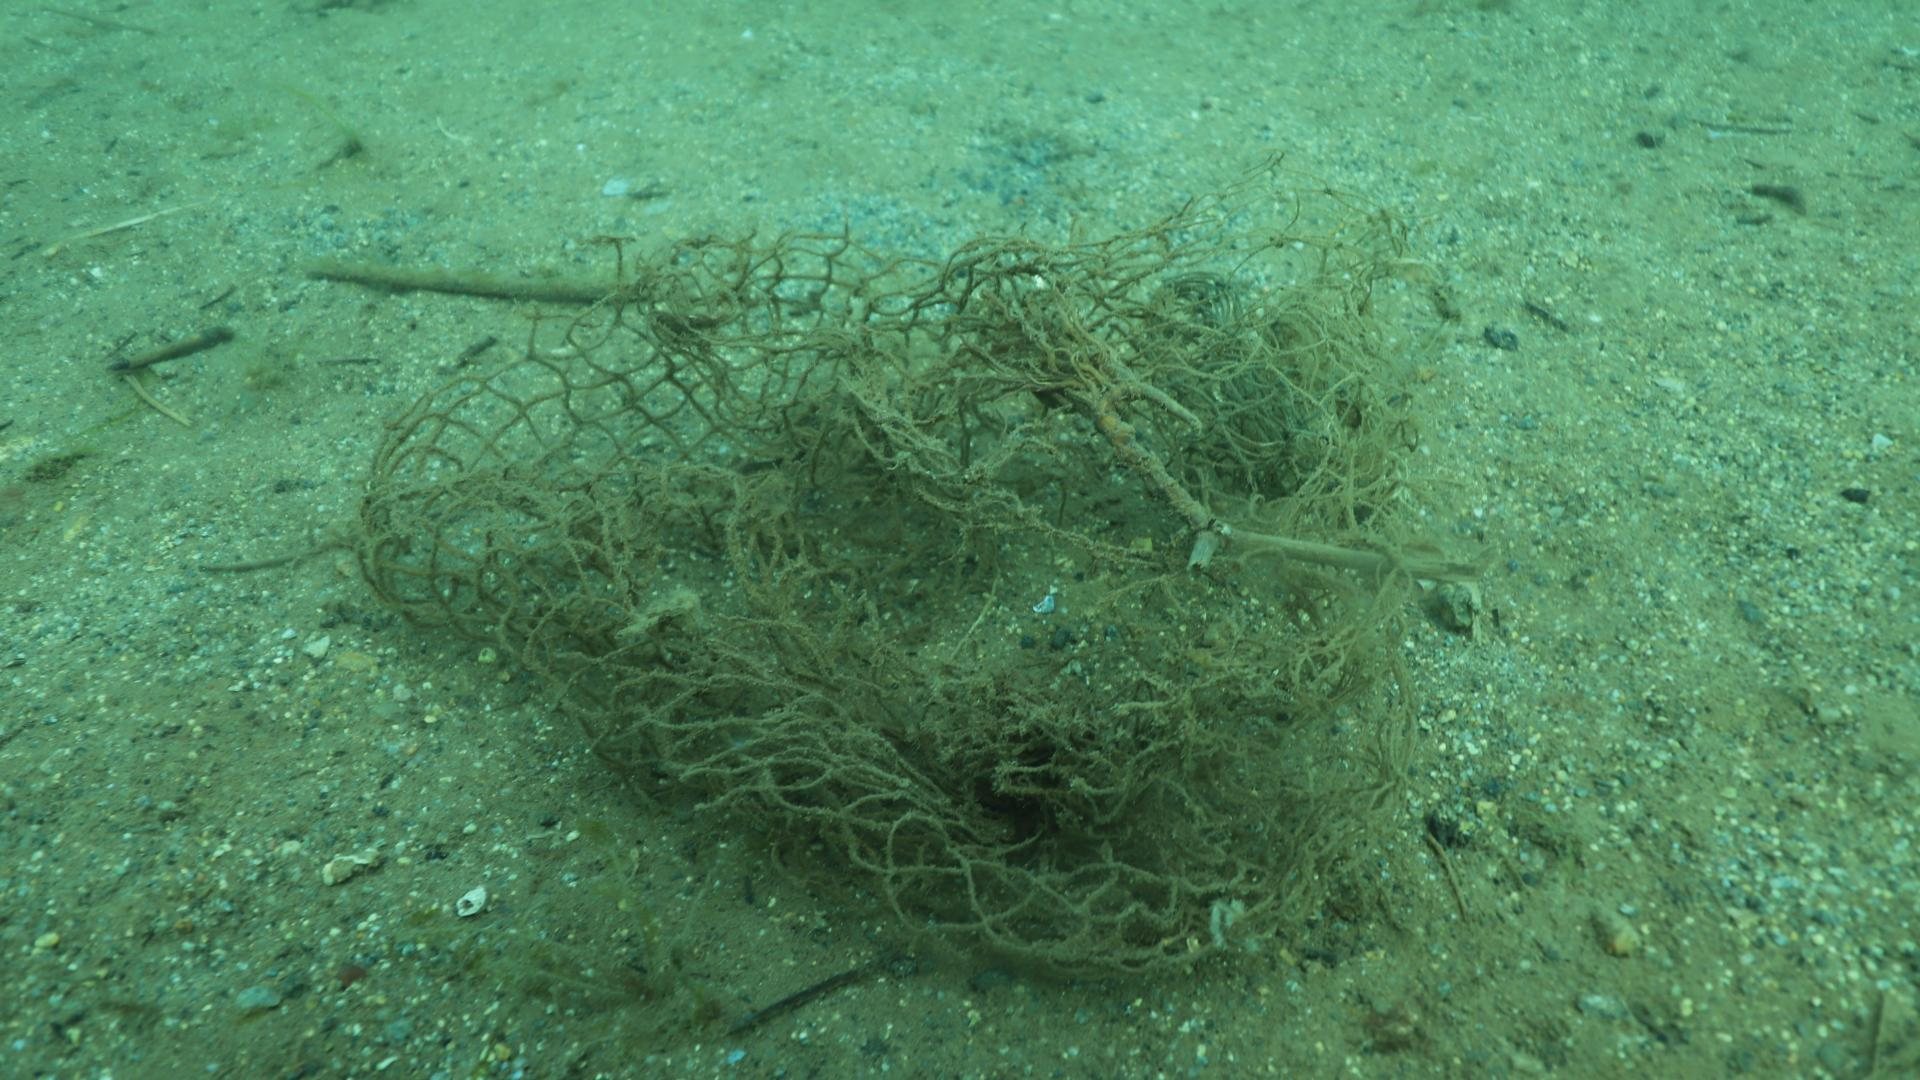fish net: (357, 262, 1139, 968)
